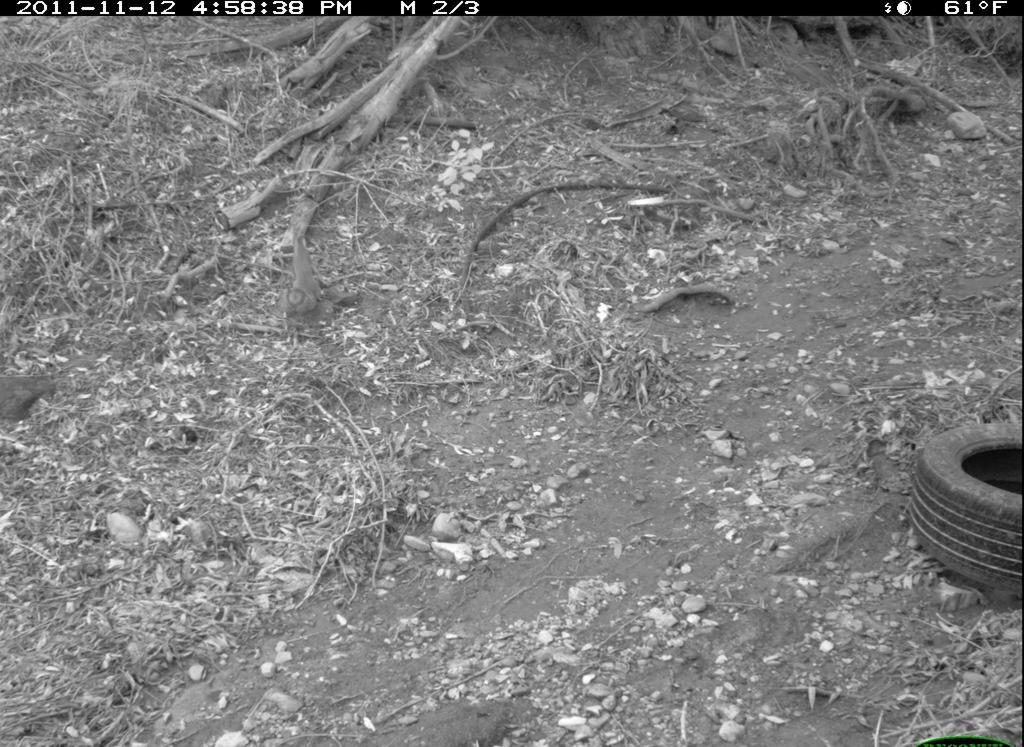squirrel: (274, 228, 333, 328)
